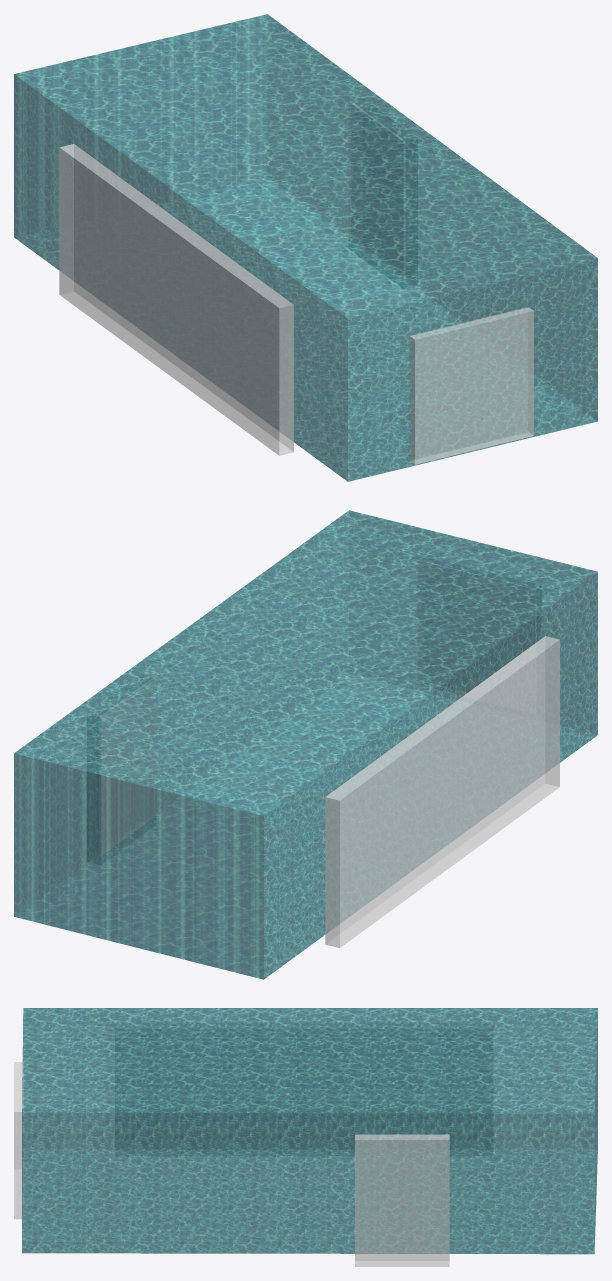
Rendered from eau_f1_transparent.obj.
3 renders of one model, top to bottom at view 1: azimuth 30°, elevation 25°; view 2: azimuth 150°, elevation 25°; view 3: azimuth 270°, elevation 25°, orthographic. The views are drawn at different scales.
Parts seen in each view (by area): view 1: eau_2_f1_Cube_Cube.003; view 2: eau_2_f1_Cube_Cube.003; view 3: eau_2_f1_Cube_Cube.003.
Boxes of the visible parts, bbox=[...] form: eau_2_f1_Cube_Cube.003: bbox=[14, 14, 597, 481]; eau_2_f1_Cube_Cube.003: bbox=[14, 510, 597, 979]; eau_2_f1_Cube_Cube.003: bbox=[14, 1008, 597, 1266].
Size of the model in its own units: 3.43 by 2.03 by 7.24.
